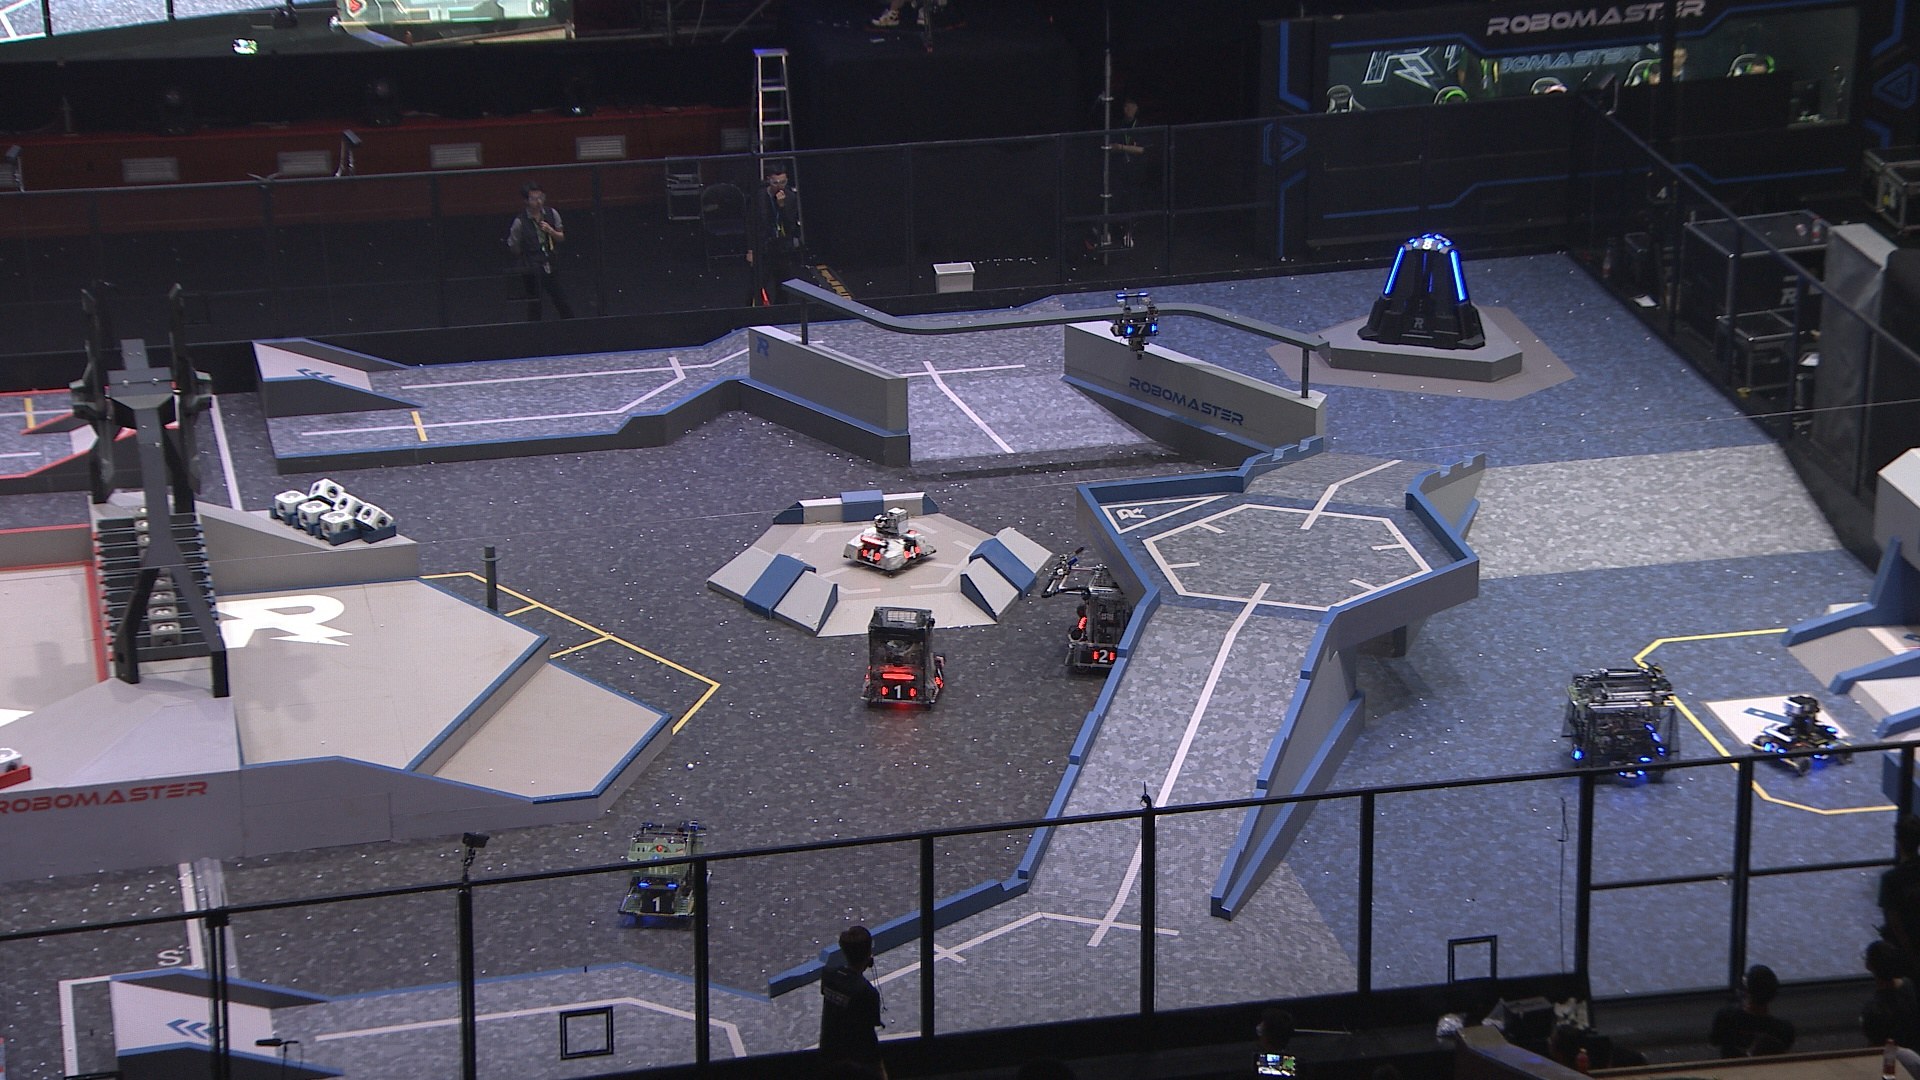armor: (1382, 245, 1406, 295), (1449, 249, 1468, 301), (641, 891, 674, 915), (878, 684, 916, 702), (1619, 760, 1647, 781), (1126, 322, 1158, 339), (1411, 237, 1447, 252), (1812, 744, 1836, 765), (1091, 646, 1116, 665), (858, 546, 880, 564), (903, 543, 923, 562), (932, 666, 945, 688), (1567, 741, 1581, 760), (1764, 742, 1784, 752)
base: (1354, 232, 1489, 349)
car: (1561, 669, 1679, 789), (1063, 562, 1176, 679), (856, 605, 949, 712), (617, 822, 713, 924), (1749, 695, 1855, 778), (840, 506, 936, 578)
watcher: (1112, 289, 1163, 360)
